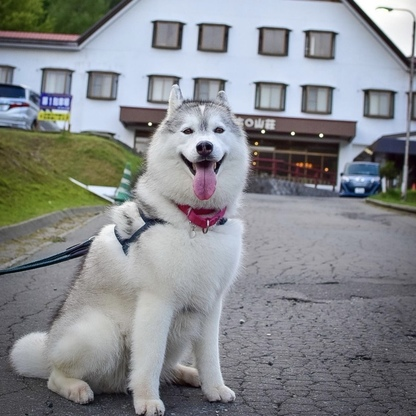husky: (4, 80, 256, 416)
